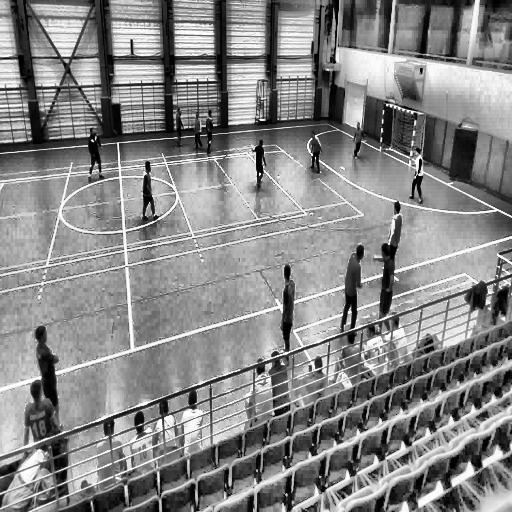player: (340, 242, 365, 334), (280, 264, 296, 363), (384, 200, 402, 272), (141, 160, 161, 222), (87, 126, 106, 180), (408, 145, 424, 203), (252, 138, 266, 192), (307, 130, 322, 175), (204, 107, 214, 155), (352, 122, 363, 161), (174, 106, 184, 148), (194, 112, 204, 152)
